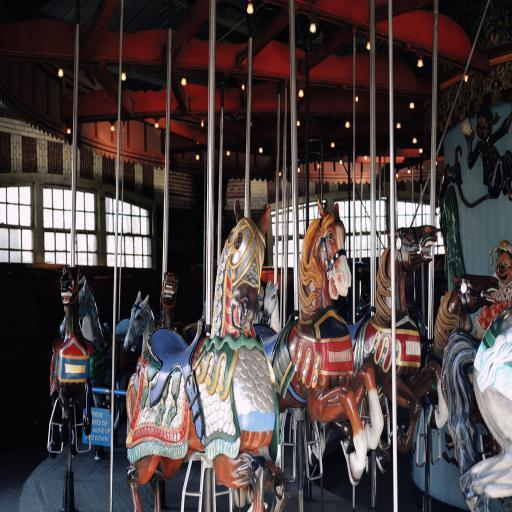horse: (47, 196, 512, 512)
